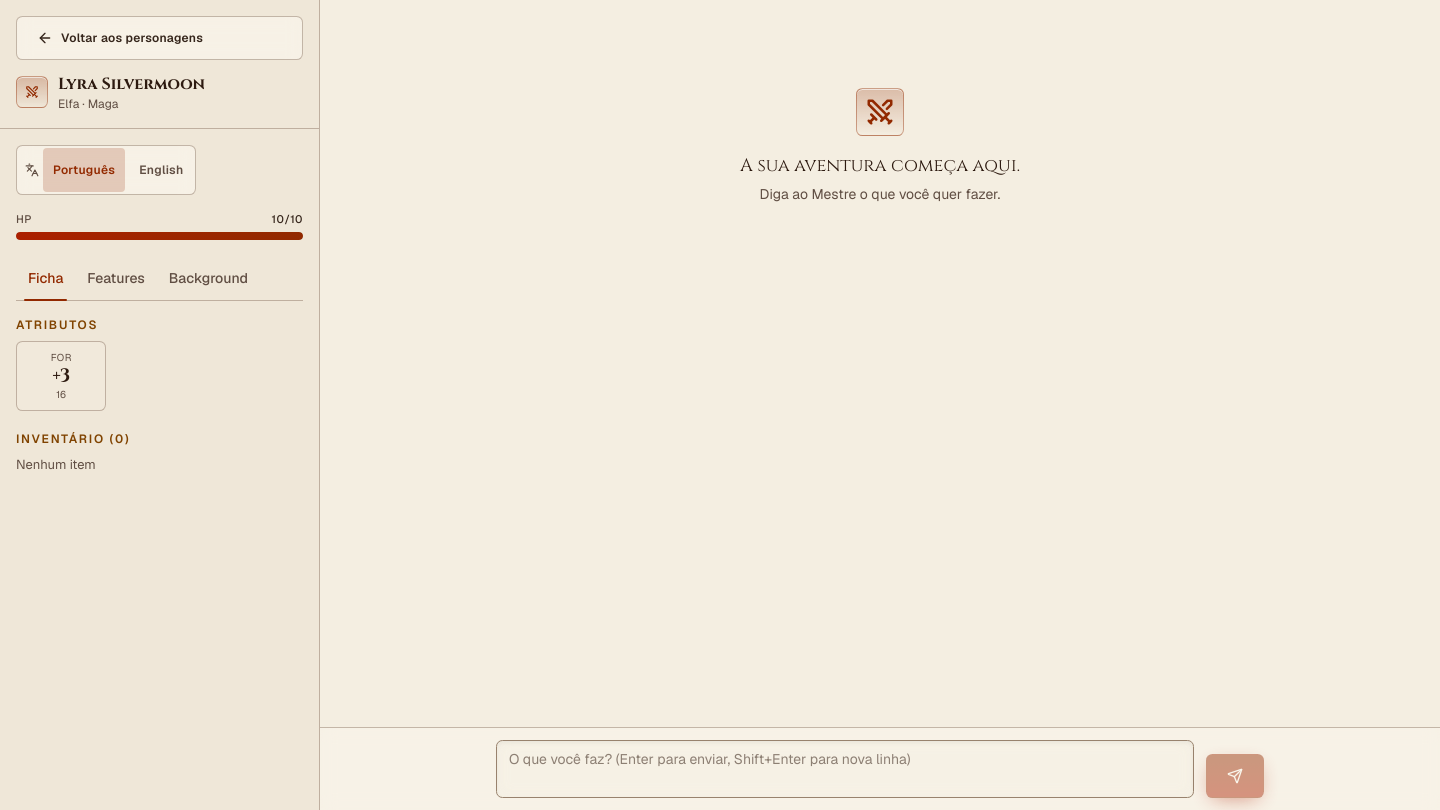
Scenario: GameView — aviso de troca de idioma no chat (US-97) › trocar o idioma na mesa insere a pílula, escrita no idioma NOVO
The image size is (1440, 810).
Expected: the text "Language changed to English" is not shown
What coordinates should you click on to do the following:
click the button "English"
I would click on:
 (161, 170)
Its box is [129,148,193,192].
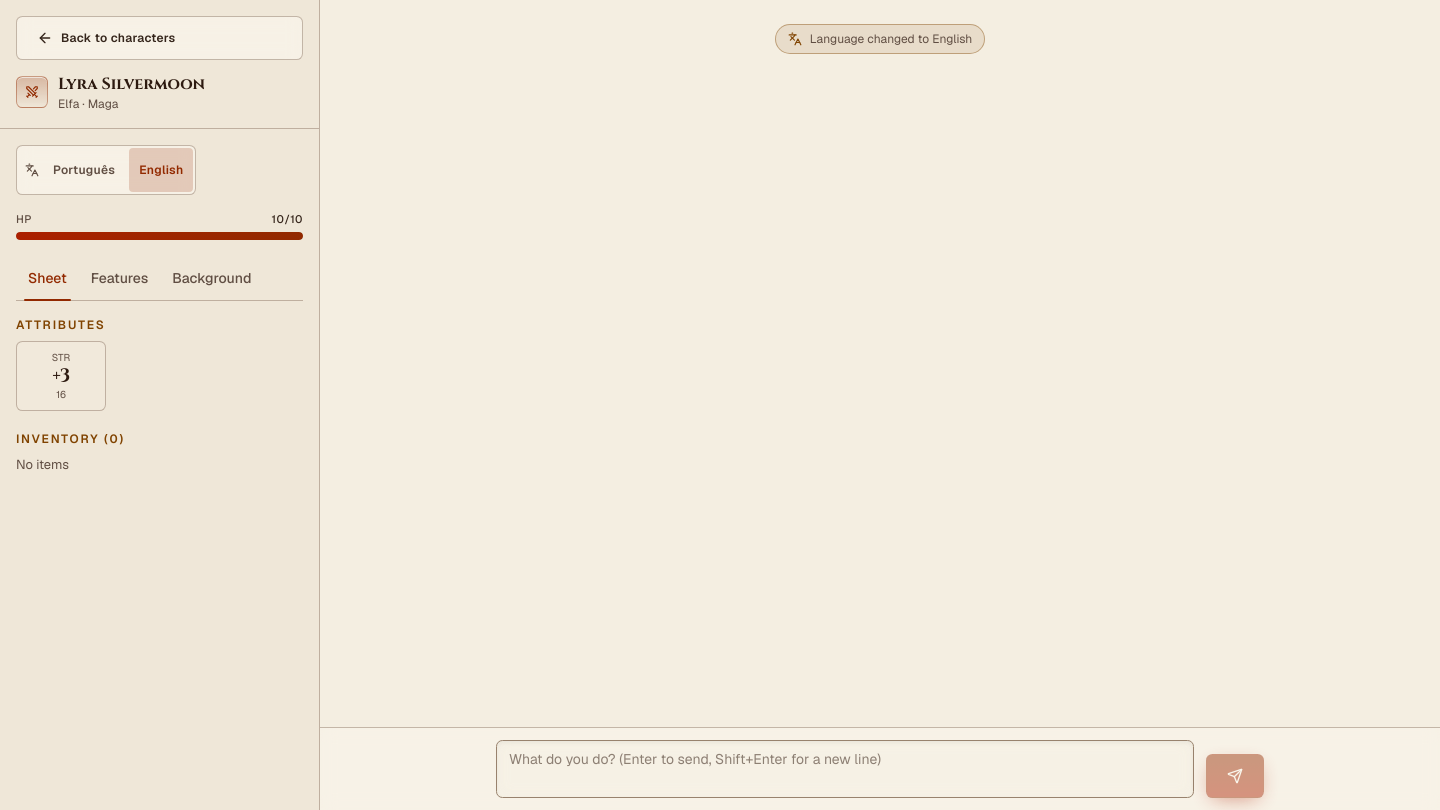
Expected: the text "Language changed to English" is shown, [775,24,985,54]
